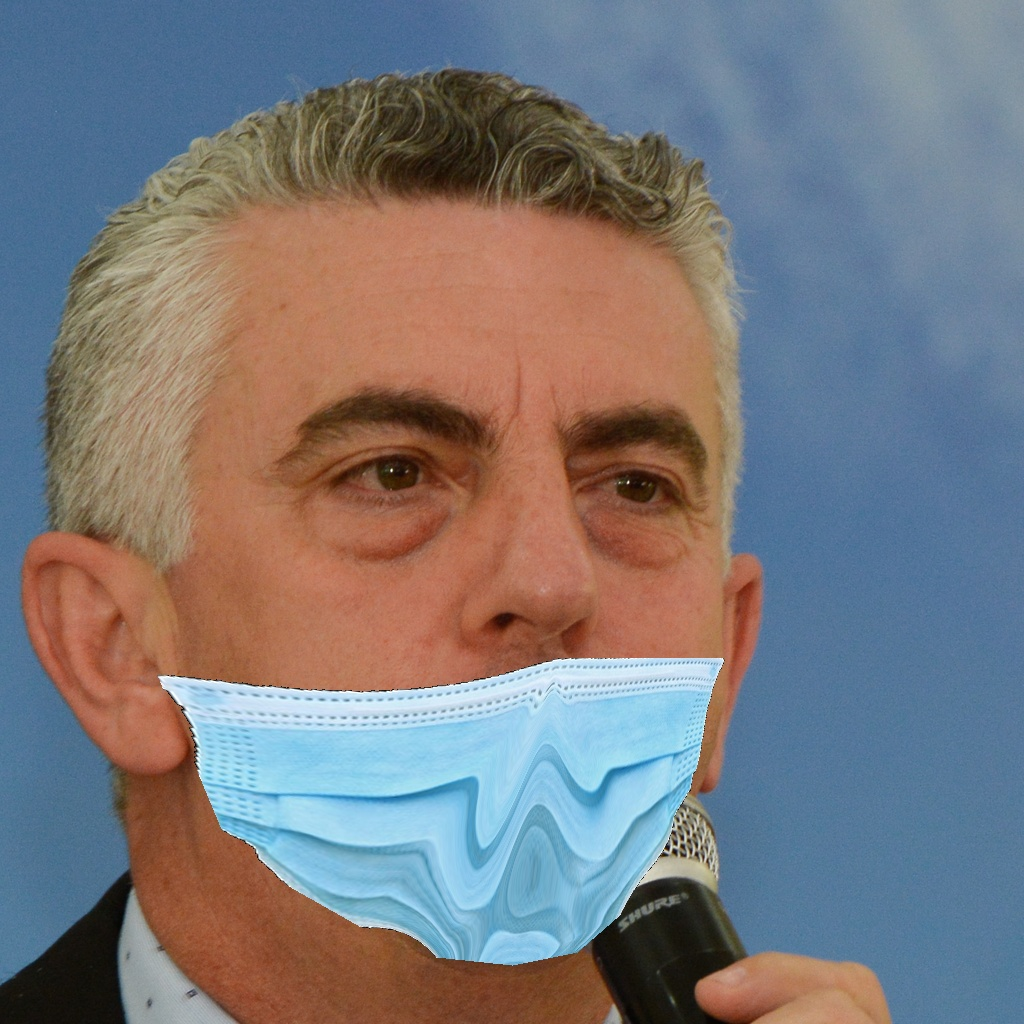mascarilla_mal_puesta: (192, 353, 784, 980)
